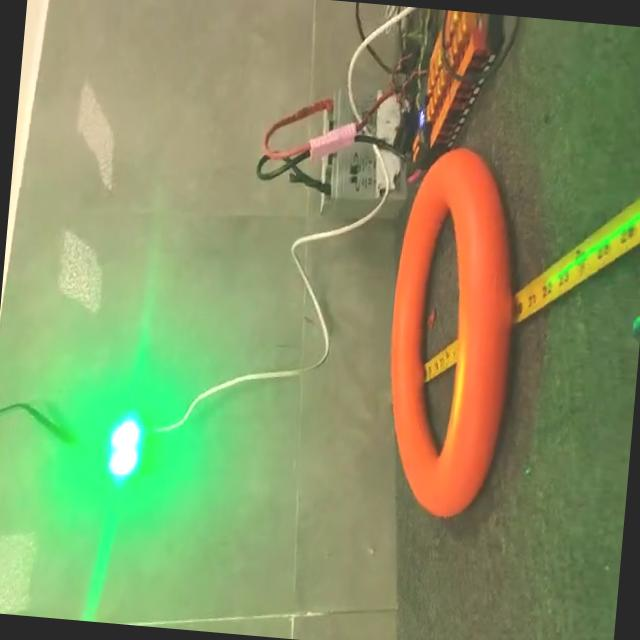note: (376, 144, 531, 520)
